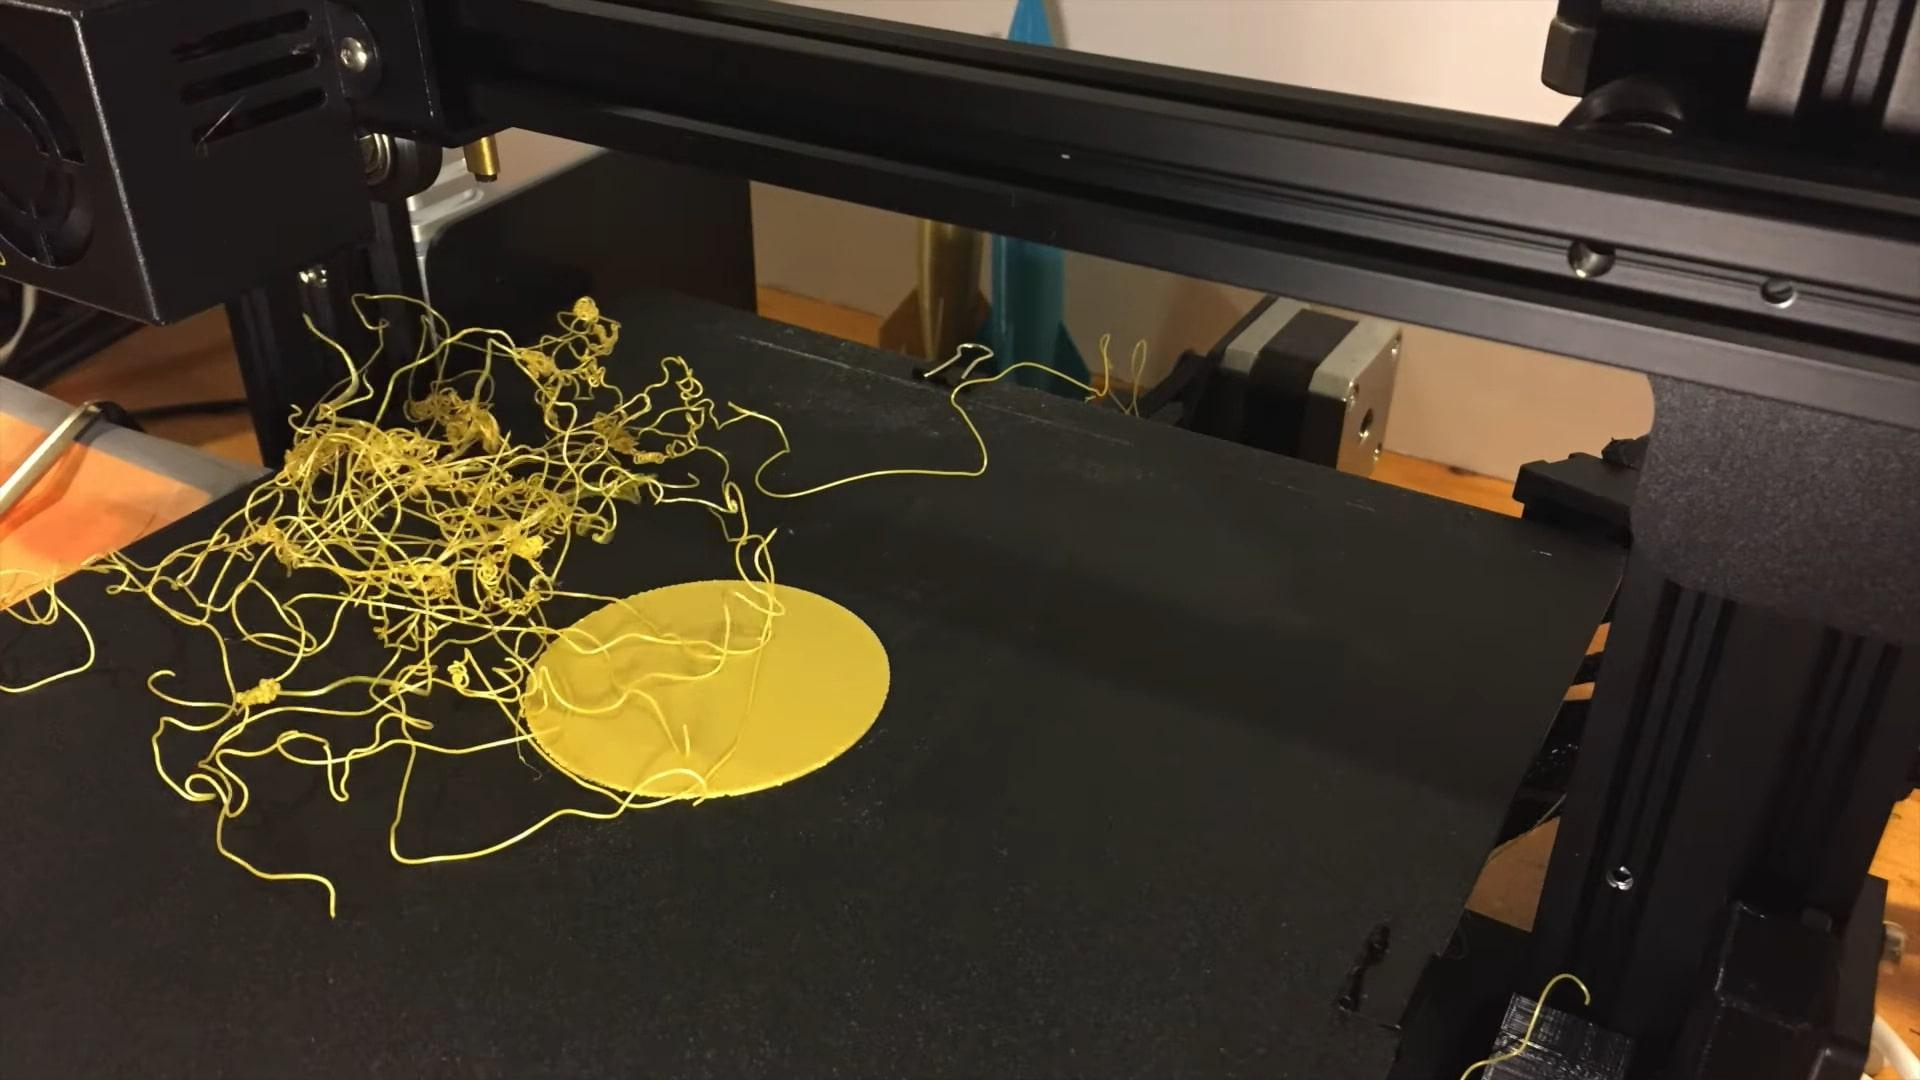Printing-Artifact: (179, 289, 723, 711)
